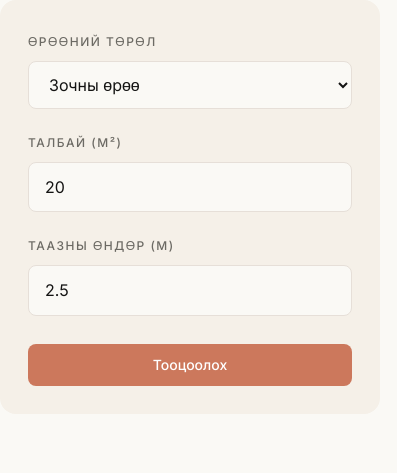
it: CalculatorForm › хязгаараас гадуур талбайд алдааны мессеж харуулна
Select "Зочны өрөө" in the dropdown labelled "Өрөөний төрөл" at {"x": 190, "y": 85}, box [28, 61, 352, 109]
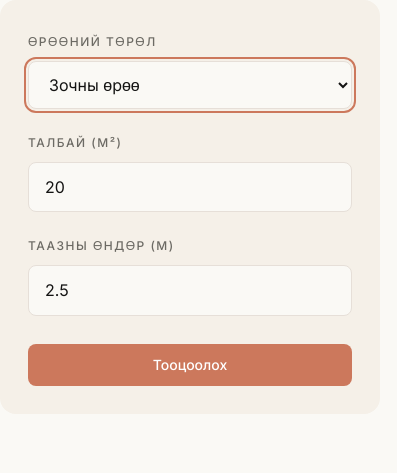
Replace the text in the number field labelled "Талбай (м²)" with "900" at {"x": 190, "y": 187}, box [28, 162, 352, 212]
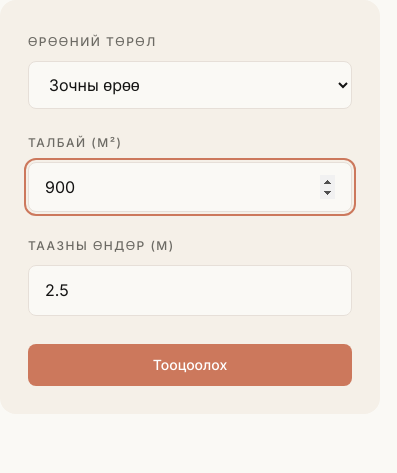
Click the button "Тооцоолох".
click(190, 365)  # box [28, 344, 352, 386]
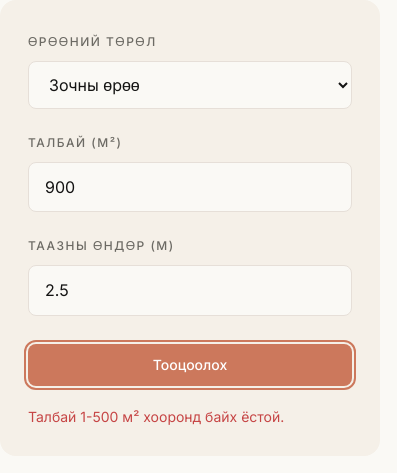
expect the message reads "Талбай 1-500 м² хооронд байх ёстой.": met, box [28, 408, 284, 425]
